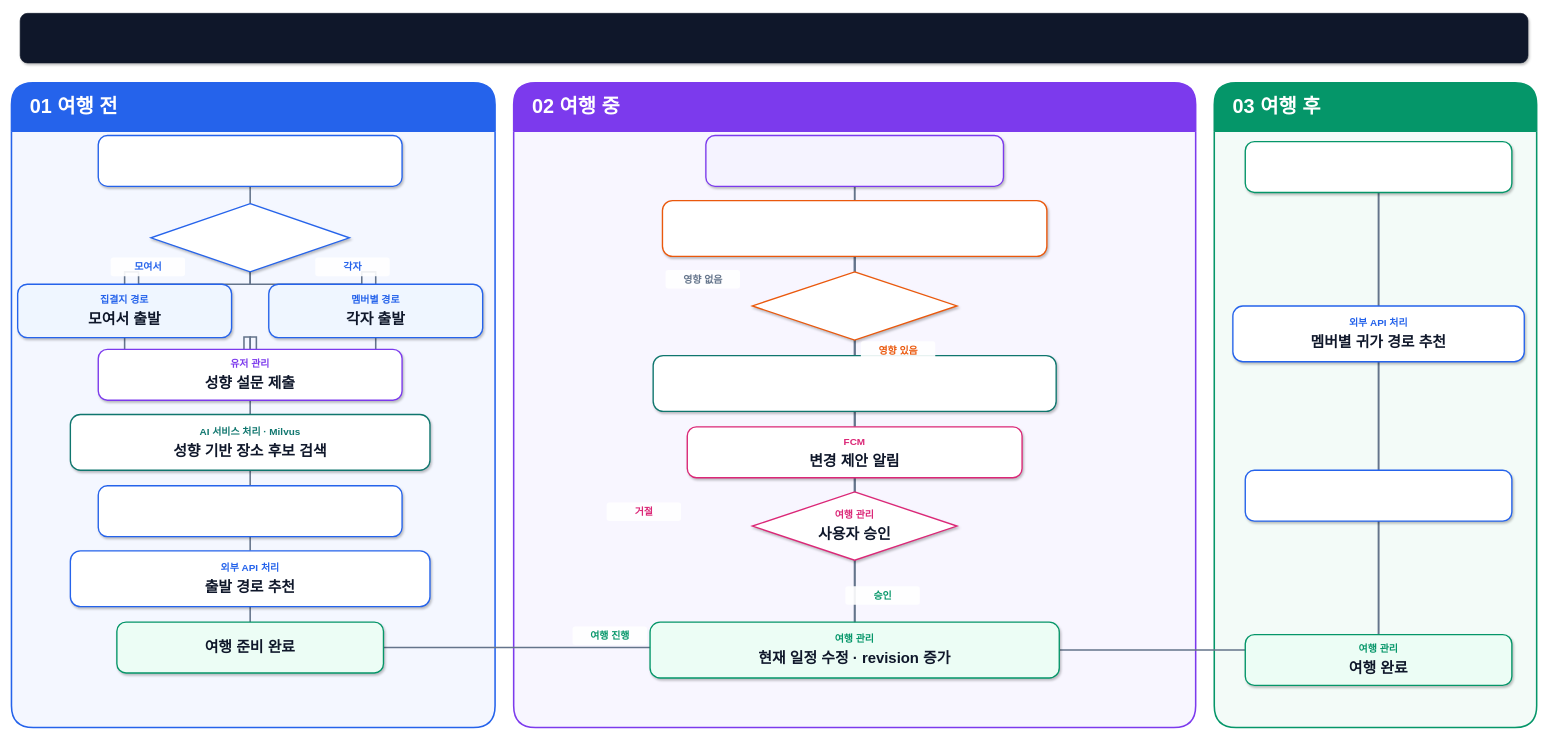
Image size: 1548x739. Some labels were removed from this diagram. Each missing label, with the centre of its shape:
AI 서비스 처리 · Milvus · 외부 API 처리 대체 장소 · 경로 추천: (855,384)
GAYADI 서비스 흐름도: (774,38)
경로 관리 귀가 경로 선택: (1379,496)
여행 관리 마지막 일정 완료: (1379,167)
여행 관리 여행 생성 · 멤버 초대: (250,161)
여행 관리 여행 시작: (855,161)
여행 관리 추천 일정 생성: (250,511)
여행 관리 출발 방식 선택: (250,238)
외부 API 처리 · 이벤트 DB 날씨 · 혼잡 · 교통 확인: (855,229)
이벤트 처리 일정 영향 발생: (855,306)
